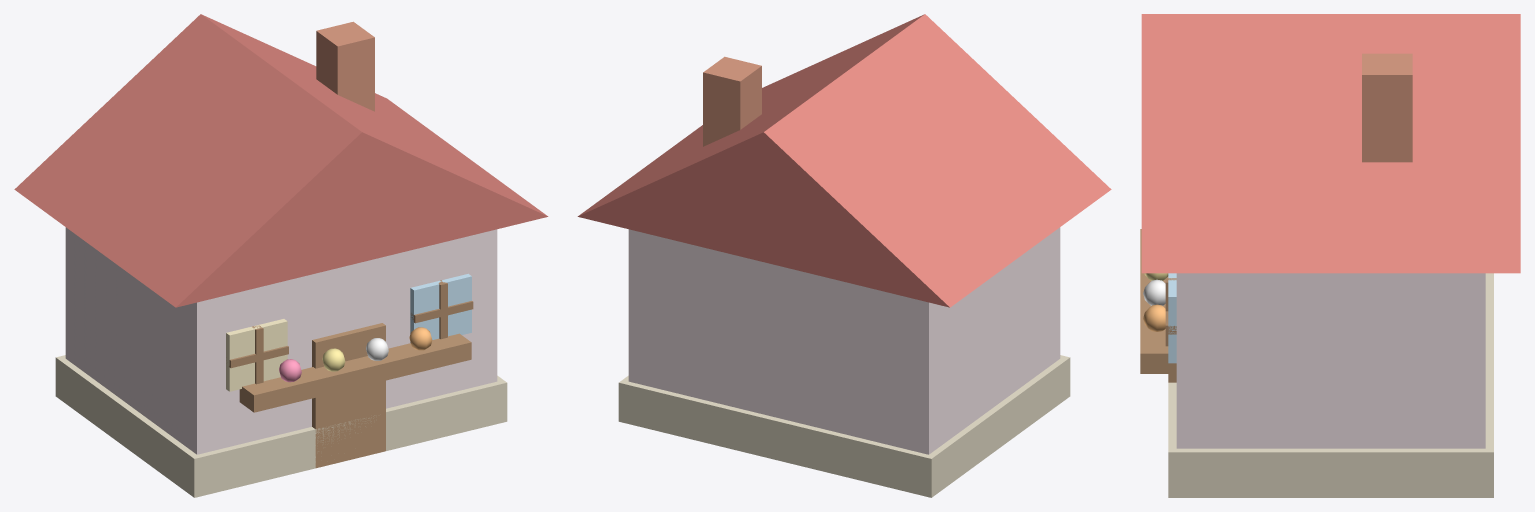
File: rumahw1.glb
3 views of the same model, side by side, from view 1: azimuth 30°, elevation 25°; view 2: azimuth 150°, elevation 25°; view 3: azimuth 270°, elevation 25° (orthographic). The views are drawn at different scales.
Visible parts, largest first — view 1: rumahw1; view 2: rumahw1; view 3: rumahw1.
Part boxes in pixels (bbox=[...]): rumahw1: bbox=[14, 14, 548, 497]; rumahw1: bbox=[577, 14, 1111, 497]; rumahw1: bbox=[1140, 14, 1520, 497].
Bounding box in the file's own units: 1.8 × 1.55 × 1.36.
